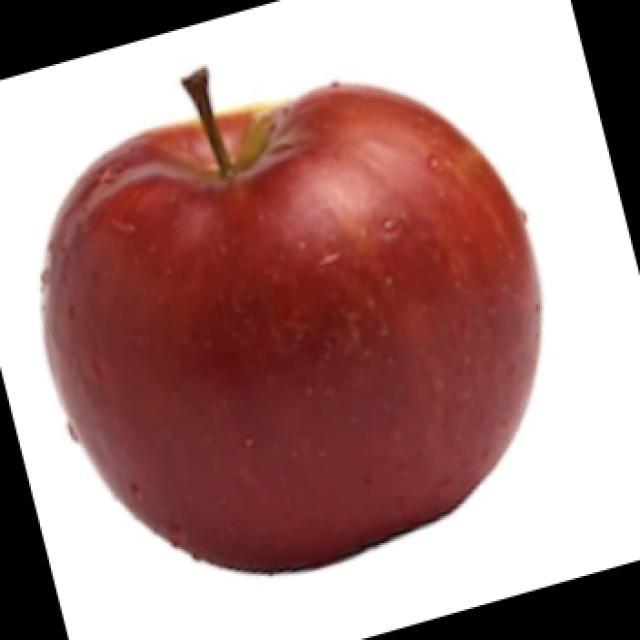Fresh Apple: (48, 87, 525, 585)
